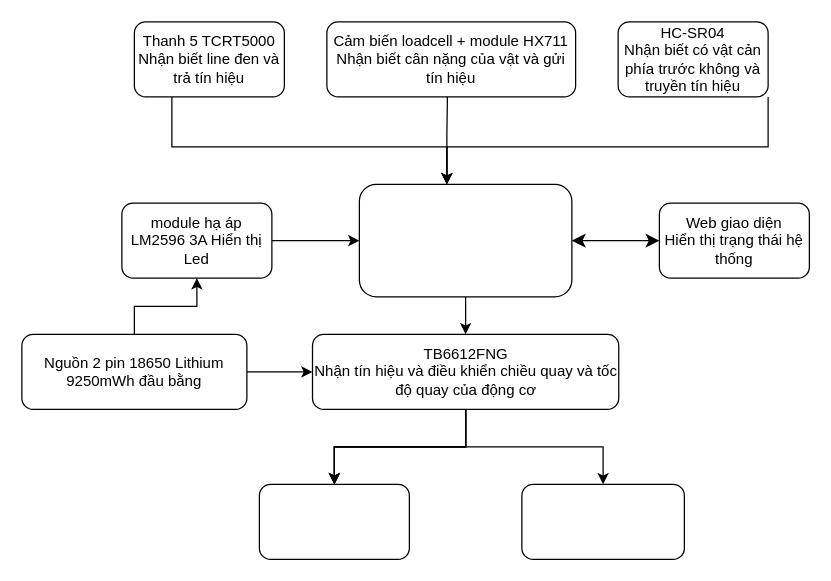
The diagram is 831 pixels wide and 581 high, and some of its shapes have lost their labels. Each missing label, with the centre of its shape:
"Cụm 2 motor bên phải" belongs at (602,521).
"Cụm 2 motor bên trái" belongs at (333,521).
"ESP32 Thu thập thông tin - Xử lý thuật toán - Ra quyết định" belongs at (465,240).
